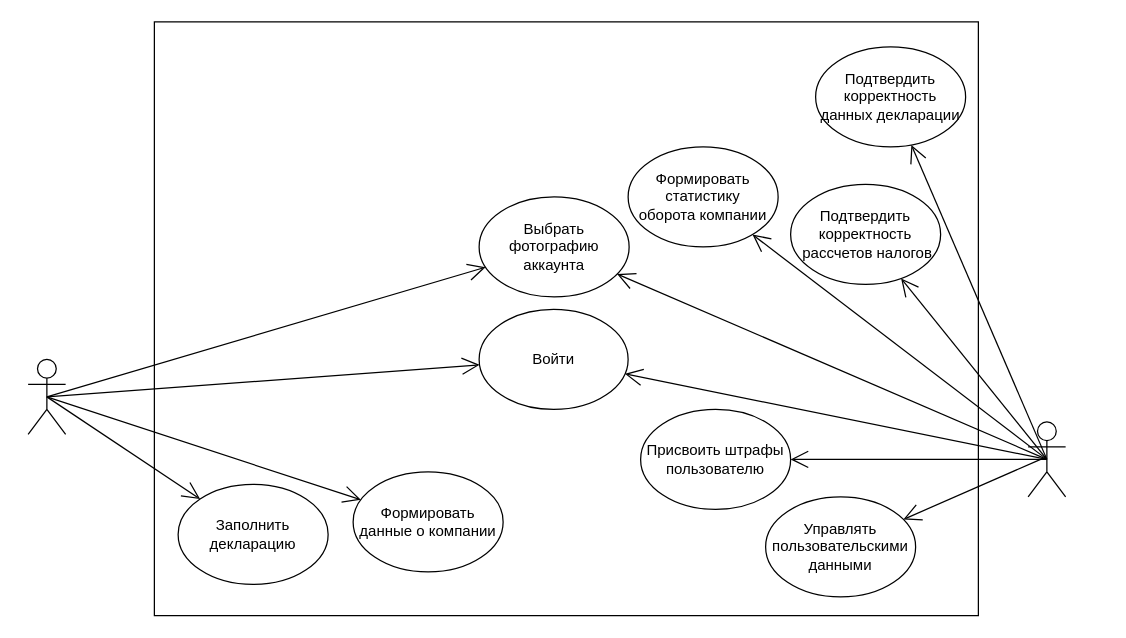
The diagram is 1126 pixels wide and 638 high, and some of its shapes have lost their labels. The box of each missing label's shape, as (x1, y1, x2, y2) in pixels:
Администратор: (1027, 421, 1066, 497)
Клиент: (27, 358, 66, 434)
